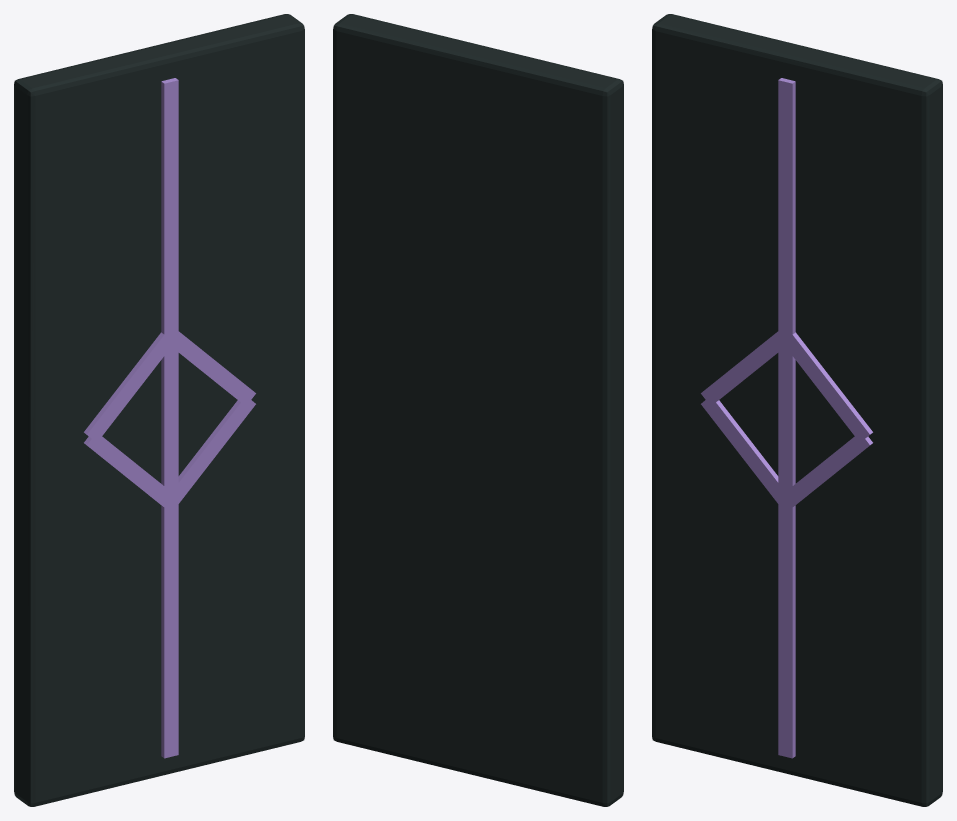
The model's file is DiamondDoor_panel.glb.
3 views of the same model, side by side, from view 1: azimuth 30°, elevation 25°; view 2: azimuth 150°, elevation 25°; view 3: azimuth 330°, elevation 25° (orthographic).
Visible parts, largest first — view 1: DiamondDoor_panel.001; view 2: DiamondDoor_panel.001; view 3: DiamondDoor_panel.001.
Boxes of the visible parts, x1=… form: DiamondDoor_panel.001: x1=14, y1=14, x2=304, y2=806; DiamondDoor_panel.001: x1=333, y1=14, x2=623, y2=806; DiamondDoor_panel.001: x1=652, y1=14, x2=942, y2=806.
Size of the model in its own units: 0.54 by 1.34 by 0.071.
